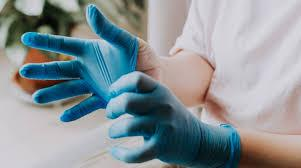Glove: (20, 5, 138, 121), (106, 72, 239, 167)
